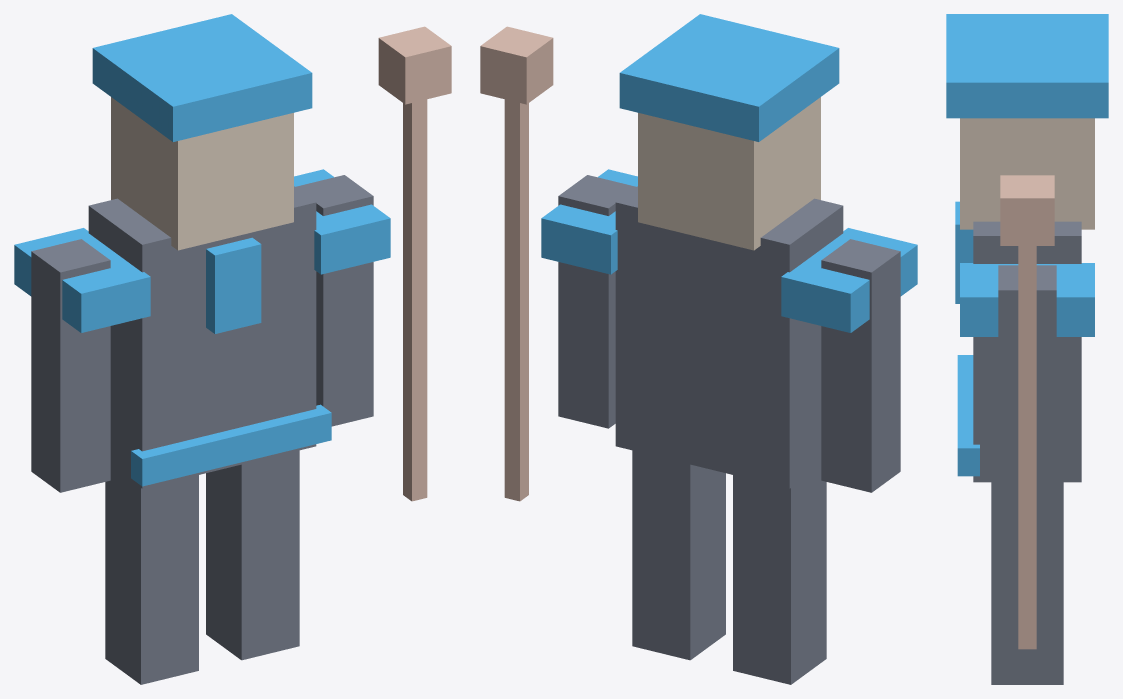
Rendered from 01_quill_skyharrow_diver_at_customs.glb.
3 renders of one model, left to right at view 1: azimuth 30°, elevation 25°; view 2: azimuth 150°, elevation 25°; view 3: azimuth 270°, elevation 25°, orthographic.
Visible parts, largest first — view 1: Quill Skyharrow, Diver at Customs; view 2: Quill Skyharrow, Diver at Customs; view 3: Quill Skyharrow, Diver at Customs.
Boxes of the visible parts, x1,y1,x2,y2 form: Quill Skyharrow, Diver at Customs: [14, 14, 451, 684]; Quill Skyharrow, Diver at Customs: [480, 14, 917, 684]; Quill Skyharrow, Diver at Customs: [946, 14, 1108, 684].
Size of the model in its own units: 0.9611 by 1.39 by 0.3409.
